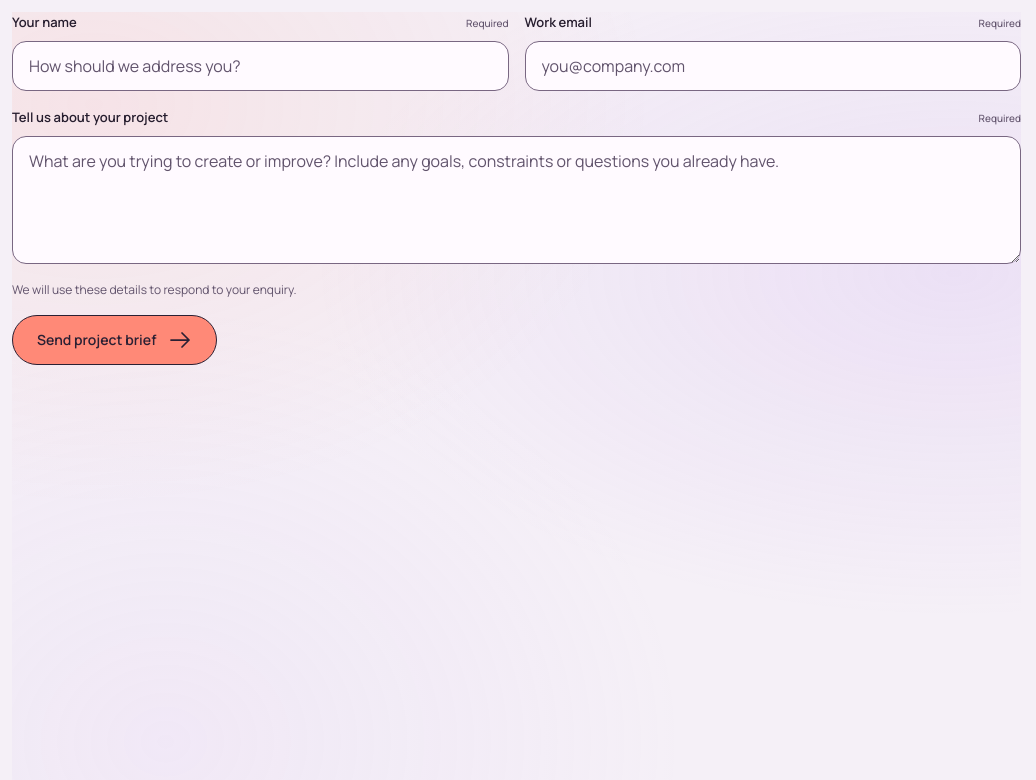
Scenario: short Home enquiry › shows only the three visitor fields, associates errors, and focuses the summary on each failed attempt
The width and height of the screenshot is (1036, 780).
Later steps or results of the test are not shown.
Expected: the number of fields is 3, [12,41,508,91]; [524,41,1021,91]; [12,136,1021,264]
Click the button "Send project brief" at (115, 340), box [12,315,217,365]
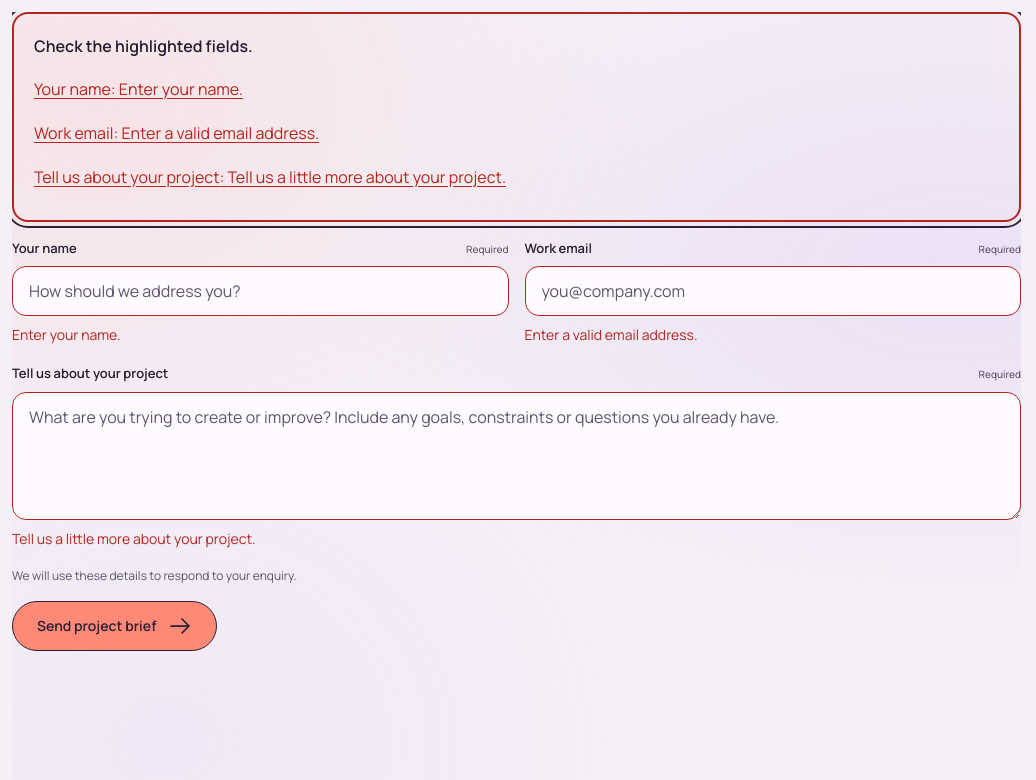
Result: the text "Enter your name." is shown at [12,325,121,344]
Result: the text with id "contact-email-error" reads "Enter a valid email address." at [524,325,698,344]
Result: the text "Tell us a little more about your project." is shown at [12,529,256,548]
